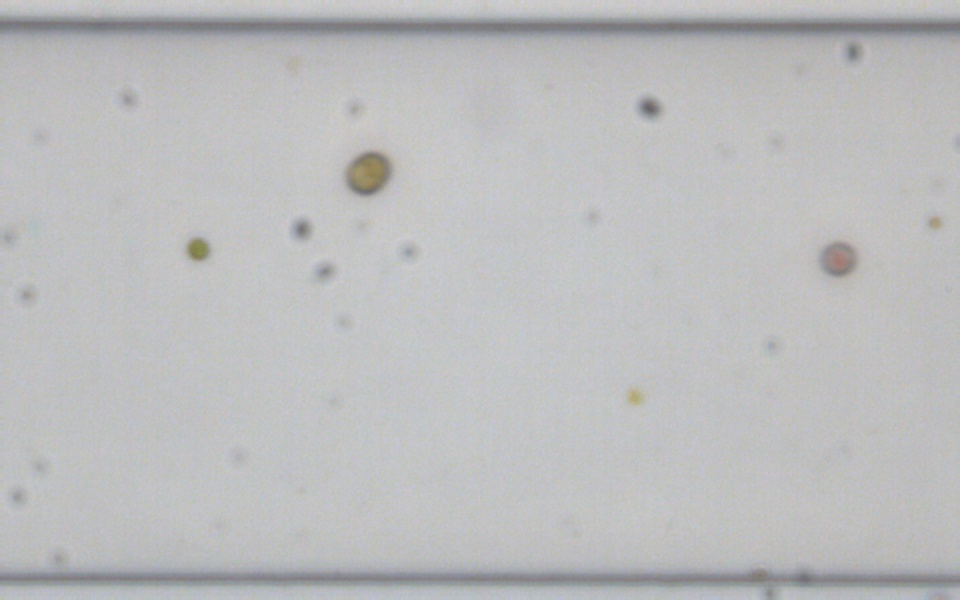Chlorella: (186, 237, 209, 260), (626, 388, 643, 404), (927, 214, 942, 229)
Effrenium: (342, 149, 391, 196)
Porphyridium: (818, 239, 855, 276)
